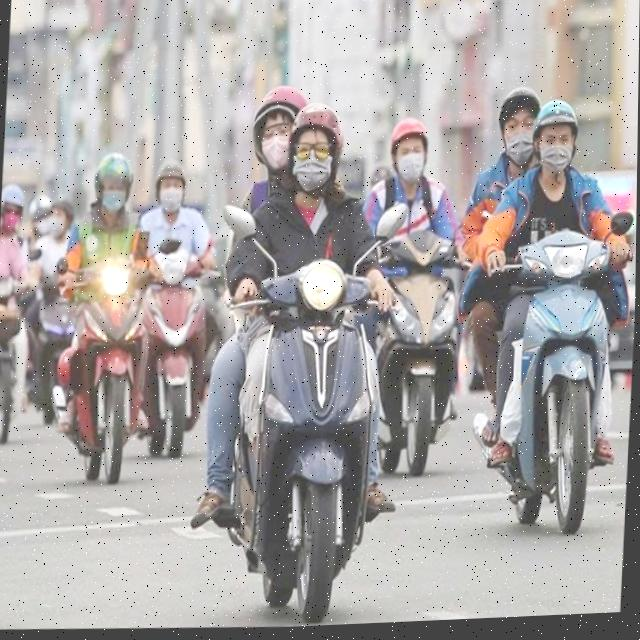motorcycle: (200, 190, 405, 628), (466, 196, 637, 550), (361, 224, 475, 485), (54, 243, 156, 488), (128, 239, 215, 467), (0, 265, 38, 452)
